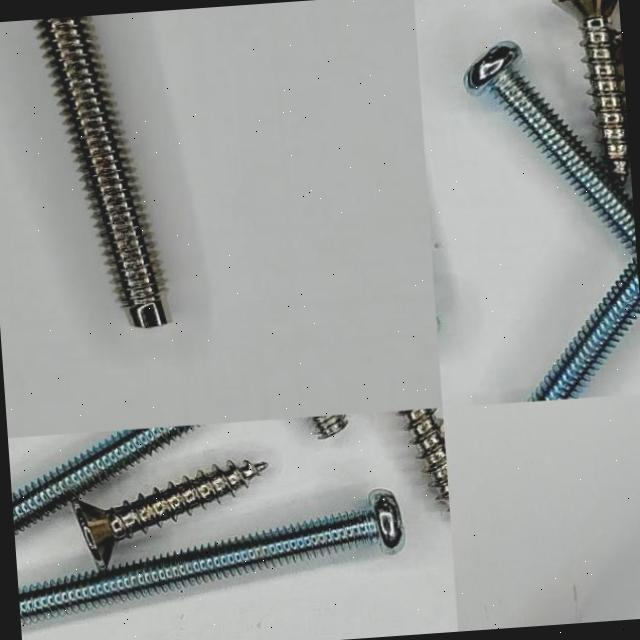Screw: (465, 41, 640, 401), (18, 490, 405, 626), (34, 15, 171, 327), (72, 460, 267, 568), (11, 424, 199, 533), (528, 252, 640, 401), (552, 0, 629, 181), (399, 408, 449, 507), (310, 414, 349, 438)
